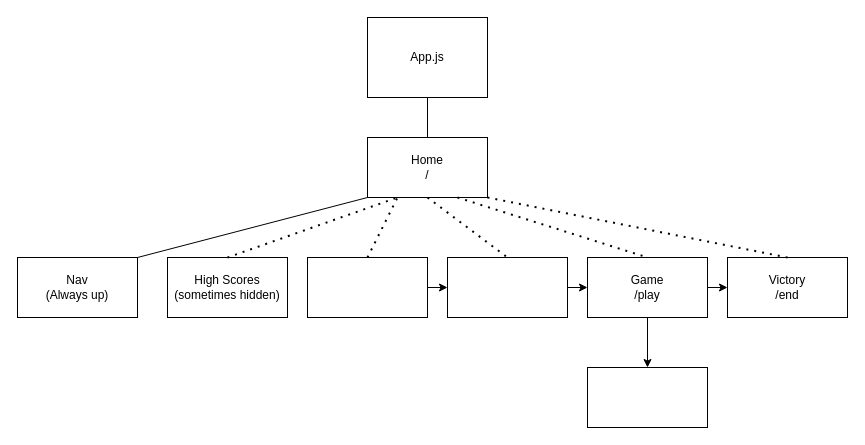
Image size: 865x445. Some labels were removed from this diagram. Here are the shapes that lost their labels. From the top down, the box of each, then its label:
(306, 256, 428, 318): Instructions /instructions
(446, 256, 568, 318): Difficulty /difficulty
(586, 366, 708, 428): Square (always up)
